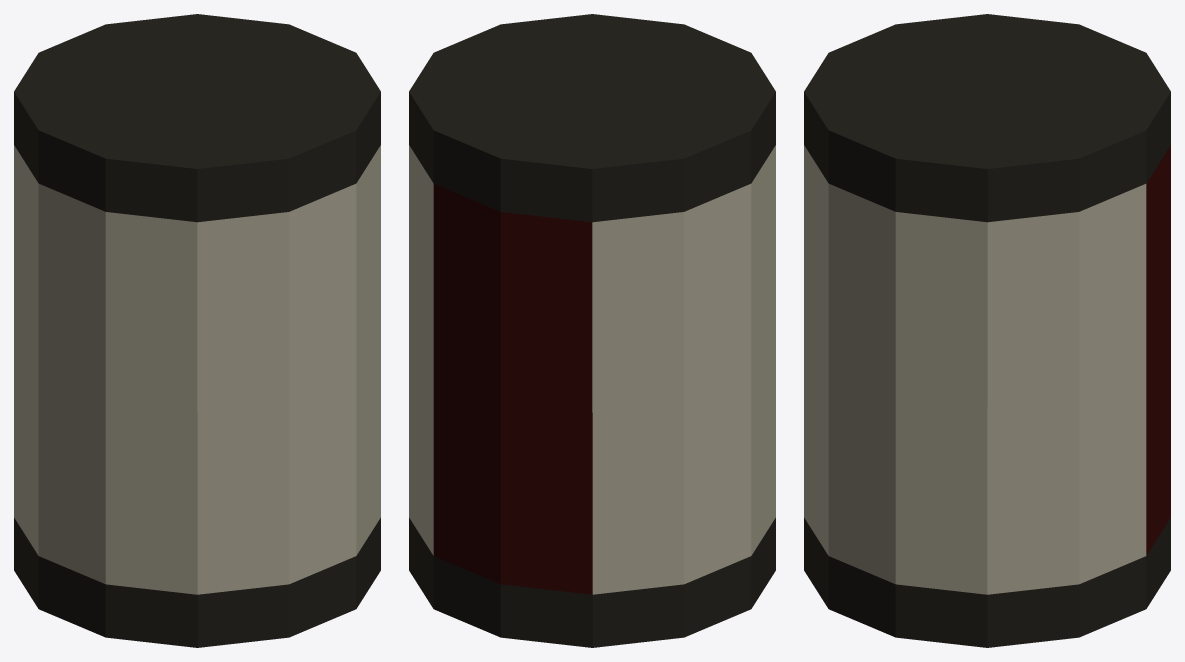
Rendered from SM_CannedFood.fbx.
3 views of the same model, side by side, from view 1: azimuth 30°, elevation 25°; view 2: azimuth 150°, elevation 25°; view 3: azimuth 270°, elevation 25° (orthographic).
Visible parts, largest first — view 1: SM_CannedFood; view 2: SM_CannedFood; view 3: SM_CannedFood.
Part boxes in pixels (bbox=[...]): SM_CannedFood: bbox=[14, 14, 380, 647]; SM_CannedFood: bbox=[409, 14, 775, 647]; SM_CannedFood: bbox=[804, 14, 1170, 647].
Size of the model in its own units: 7.5 by 10.8 by 7.5.
